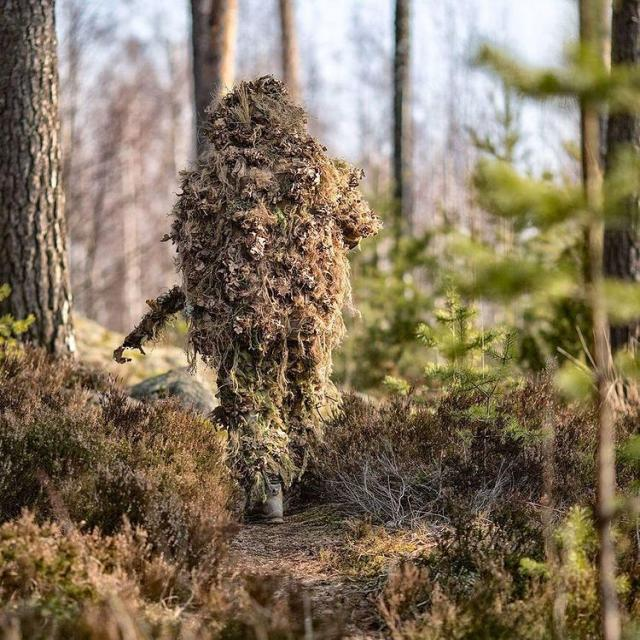Human: (116, 77, 380, 525)
